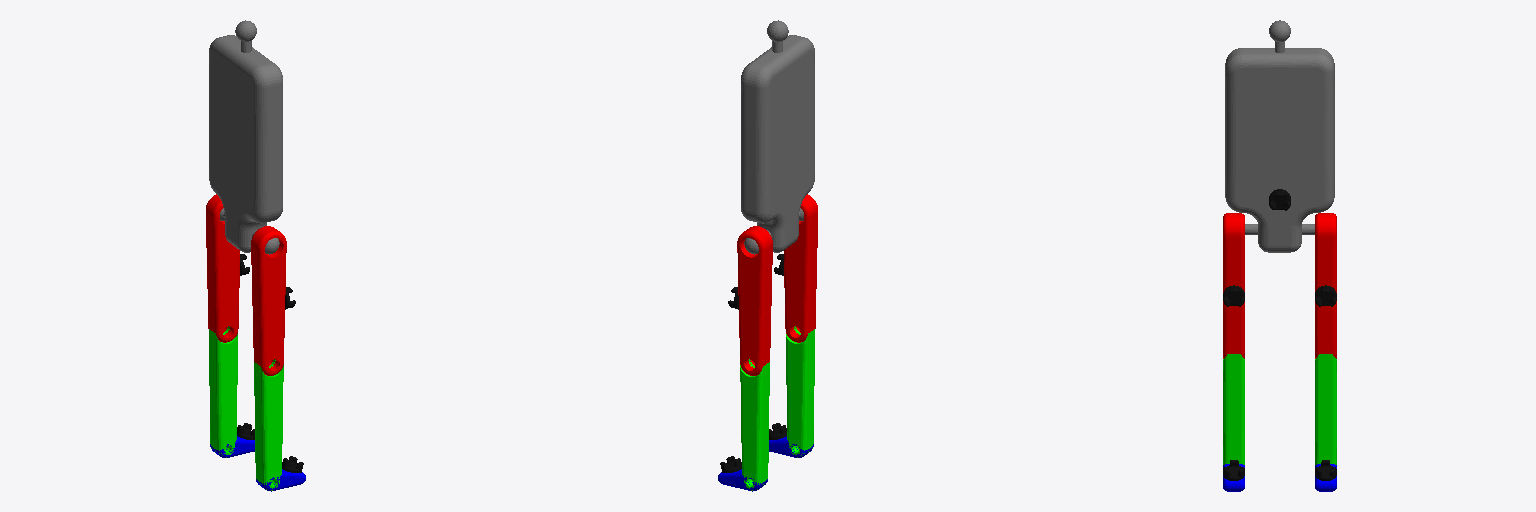
robot.urdf — seto_scararobot:
<?xml version="1.0" ?>
<robot name="seto_scararobot">

    <link name="world"/>

    <link name="base_link"/>

    <link name="head_1_link"/>

    <link name="head_2_link"/>

    <link name="body_link">
        <visual>
            <geometry>
                <mesh filename="package://damitora_description/meshes/body.stl" />
            </geometry>
            <material name="gray">
                <color rgba="0.5 0.5 0.5 1.0" />
            </material>
        </visual>
    </link>

    <link name="upper_leg_R1_link"/>

    <link name="upper_leg_R2_link"/>

    <link name="upper_leg_R3_link">
        <visual>
            <geometry>
                <mesh filename="package://damitora_description/meshes/upper_leg.stl" />
            </geometry>
            <material name="red">
                <color rgba="1.0 0.0 0.0 1.0" />
            </material>
        </visual>
    </link>

    <link name="lower_leg_R_link">
        <visual>
            <geometry>
                <mesh filename="package://damitora_description/meshes/lower_leg2_1.stl" />
            </geometry>
            <material name="green">
                <color rgba="0.0 1.0 0. 1.0" />
            </material>
        </visual>
    </link>

    <link name="Foot_R_link">
        <visual>
            <geometry>
                <mesh filename="package://damitora_description/meshes/lower_leg2_2.stl" />
            </geometry>
            <material name="blue">
                <color rgba="0.0 0.0 1.0 1.0" />
            </material>
        </visual>
    </link>

    <link name="upper_leg_L1_link"/>

    <link name="upper_leg_L2_link"/>

    <link name="upper_leg_L3_link">
        <visual>
            <geometry>
                <mesh filename="package://damitora_description/meshes/upper_leg.stl" />
            </geometry>
            <material name="red">
                <color rgba="1.0 0.0 0.0 1.0" />
            </material>
        </visual>
    </link>

    <link name="lower_leg_L_link">
        <visual>
            <geometry>
                <mesh filename="package://damitora_description/meshes/lower_leg2_1.stl" />
            </geometry>
            <material name="green">
                <color rgba="0.0 1.0 0. 1.0" />
            </material>
        </visual>
    </link>

    <link name="Foot_L_link">
        <visual>
            <geometry>
                <mesh filename="package://damitora_description/meshes/lower_leg2_2.stl" />
            </geometry>
            <material name="blue">
                <color rgba="0.0 0.0 1.0 1.0" />
            </material>
        </visual>
    </link>

    <link name="tracker_C_link">
        <visual>
            <geometry>
                <mesh filename="package://damitora_description/meshes/tracker.stl" />
            </geometry>
            <material name="black">
                <color rgba="0.1 0.1 0.1 1.0" />
            </material>
        </visual>
    </link>

    <link name="tracker_R_link">
        <visual>
            <geometry>
                <mesh filename="package://damitora_description/meshes/tracker.stl" />
            </geometry>
            <material name="black">
                <color rgba="0.1 0.1 0.1 1.0" />
            </material>
        </visual>
    </link>

    <link name="tracker_R_link2">
        <visual>
            <geometry>
                <mesh filename="package://damitora_description/meshes/tracker.stl" />
            </geometry>
            <material name="black">
                <color rgba="0.1 0.1 0.1 1.0" />
            </material>
        </visual>
    </link>

    <link name="tracker_L_link">
        <visual>
            <geometry>
                <mesh filename="package://damitora_description/meshes/tracker.stl" />
            </geometry>
            <material name="black">
                <color rgba="0.1 0.1 0.1 1.0" />
            </material>
        </visual>
    </link>

    <link name="tracker_L_link2">
        <visual>
            <geometry>
                <mesh filename="package://damitora_description/meshes/tracker.stl" />
            </geometry>
            <material name="black">
                <color rgba="0.1 0.1 0.1 1.0" />
            </material>
        </visual>
    </link>
    <!-- ワールド -->

    <joint name="fixed_world" type="fixed">
        <parent link="world"/>
        <child link="base_link"/>
        <origin xyz="0 0 0" rpy="0 0 0" />
    </joint>

    <!-- 首 -->

    <joint name="head_R" type="revolute">
        <parent link="base_link" />
        <child link="head_1_link" />
        <origin xyz="0 0 0" rpy="0 0 0" />
        <axis xyz="1 0 0" />
        <limit effort="1000.0" lower="-3.14159" upper="3.14159" velocity="2.0" />
    </joint>

    <joint name="head_P" type="revolute">
        <parent link="head_1_link" />
        <child link="head_2_link" />
        <origin xyz="0 0 0" rpy="0 0 0" />
        <axis xyz="0 -1 0" />
        <limit effort="1000.0" lower="-3.14159" upper="3.14159" velocity="2.0" />
    </joint>

    <joint name="head_Y" type="revolute">
        <parent link="head_2_link" />
        <child link="body_link" />
        <origin xyz="0 0 0" rpy="0 0 0" />
        <axis xyz="0 0 -1" />
        <limit effort="1000.0" lower="-3.14159" upper="3.14159" velocity="2.0" />
    </joint>

    <!-- 右足 -->

    <joint name="R_upper_leg_Y" type="revolute">
        <parent link="body_link" />
        <child link="upper_leg_R1_link" />
        <origin xyz="0 -0.021 -0.1" rpy="0 0 0" />
        <axis xyz="0 0 -1" />
        <limit effort="1000.0" lower="-3.14159" upper="3.14159" velocity="2.0" />
    </joint>

    <joint name="R_upper_leg_R" type="revolute">
        <parent link="upper_leg_R1_link" />
        <child link="upper_leg_R2_link" />
        <origin xyz="0 0 0" rpy="0 0 0" />
        <axis xyz="1 0 0" />
        <limit effort="1000.0" lower="-3.14159" upper="3.14159" velocity="2.0" />
    </joint>

    <joint name="R_upper_leg_P" type="revolute">
        <parent link="upper_leg_R2_link" />
        <child link="upper_leg_R3_link" />
        <origin xyz="0 0 0" rpy="0 0 0" />
        <axis xyz="0 -1 0" />
        <limit effort="1000.0" lower="-3.14159" upper="3.14159" velocity="2.0" />
    </joint>

    <joint name="R_lower_leg_P" type="revolute">
        <parent link="upper_leg_R3_link" />
        <child link="lower_leg_R_link" />
        <origin xyz="0 0 -0.06" rpy="0 0 0" />
        <axis xyz="0 1 0" />
        <limit effort="1000.0" lower="0" upper="3.14159" velocity="2.0" />
    </joint>

    <joint name="R_foot_P" type="revolute">
        <parent link="lower_leg_R_link" />
        <child link="Foot_R_link" />
        <origin xyz="0 0 -0.06" rpy="0 0 0" />
        <axis xyz="0 1 0" />
        <limit effort="1000.0" lower="0" upper="3.14159" velocity="2.0" />
    </joint>

    <!-- 左足 -->

    <joint name="L_upper_leg_Y" type="revolute">
        <parent link="body_link" />
        <child link="upper_leg_L1_link" />
        <origin xyz="0 0.021 -0.1" rpy="0 0 0" />
        <axis xyz="0 0 -1" />
        <limit effort="1000.0" lower="-3.14159" upper="3.14159" velocity="2.0" />
    </joint>

    <joint name="L_upper_leg_R" type="revolute">
        <parent link="upper_leg_L1_link" />
        <child link="upper_leg_L2_link" />
        <origin xyz="0 0 0" rpy="0 0 0" />
        <axis xyz="1 0 0" />
        <limit effort="1000.0" lower="-3.14159" upper="3.14159" velocity="2.0" />
    </joint>

    <joint name="L_upper_leg_P" type="revolute">
        <parent link="upper_leg_L2_link" />
        <child link="upper_leg_L3_link" />
        <origin xyz="0 0 0" rpy="0 0 0" />
        <axis xyz="0 1 0" />
        <limit effort="1000.0" lower="-3.14159" upper="3.14159" velocity="2.0" />
    </joint>

    <joint name="L_lower_leg_P" type="revolute">
        <parent link="upper_leg_L3_link" />
        <child link="lower_leg_L_link" />
        <origin xyz="0 0 -0.06" rpy="0 0 0" />
        <axis xyz="0 -1 0" />
        <limit effort="1000.0" lower="-3.14159" upper="0" velocity="2.0" />
    </joint>

    <joint name="L_foot_P" type="revolute">
        <parent link="lower_leg_L_link" />
        <child link="Foot_L_link" />
        <origin xyz="0 0 -0.06" rpy="0 0 0" />
        <axis xyz="0 1 0" />
        <limit effort="1000.0" lower="0" upper="3.14159" velocity="2.0" />
    </joint>

    <!-- トラッカー -->

    <joint name="fixed_tracker_C" type="fixed">
        <parent link="body_link"/>
        <child link="tracker_C_link"/>
        <origin xyz="0.01 0 -0.08" rpy="0 0 0" />
    </joint>

    <joint name="fixed_tracker_R" type="fixed">
        <parent link="Foot_R_link"/>
        <child link="tracker_R_link"/>
        <origin xyz="0.012 0 0.002" rpy="0 -1.3 0" />
    </joint>

    <joint name="fixed_tracker_R2" type="fixed">
        <parent link="upper_leg_R3_link"/>
        <child link="tracker_R_link2"/>
        <origin xyz="0.007 0 -0.03" rpy="0 0 0" />
    </joint>

    <joint name="fixed_tracker_L" type="fixed">
        <parent link="Foot_L_link"/>
        <child link="tracker_L_link"/>
        <origin xyz="0.012 0 0.002" rpy="0 -1.3 0" />
    </joint>

    <joint name="fixed_tracker_L2" type="fixed">
        <parent link="upper_leg_L3_link"/>
        <child link="tracker_L_link2"/>
        <origin xyz="0.007 0 -0.03" rpy="0 0 0" />
    </joint>

</robot>

--- Render facts (derived) ---
3 views of the same robot in one strip: view 1: azimuth 30°, elevation 25°; view 2: azimuth 150°, elevation 25°; view 3: azimuth 270°, elevation 25° (orthographic).
Robot: seto_scararobot — 20 links, 19 joints (13 revolute, 6 fixed); root link world; default pose: all joints at 0.
Visible links, largest first — view 1: body_link, upper_leg_R3_link, upper_leg_L3_link, lower_leg_L_link, lower_leg_R_link; view 2: body_link, upper_leg_L3_link, upper_leg_R3_link, lower_leg_L_link, lower_leg_R_link; view 3: body_link, upper_leg_R3_link, upper_leg_L3_link, lower_leg_L_link, lower_leg_R_link.
Link boxes in pixels (x1,y1,x2,y2): body_link: [209, 20, 282, 254]; upper_leg_R3_link: [251, 226, 286, 375]; upper_leg_L3_link: [206, 194, 239, 342]; lower_leg_L_link: [209, 326, 237, 457]; lower_leg_R_link: [254, 359, 283, 490]; body_link: [741, 20, 814, 254]; upper_leg_L3_link: [737, 226, 772, 375]; upper_leg_R3_link: [784, 194, 817, 342]; lower_leg_L_link: [740, 359, 769, 490]; lower_leg_R_link: [786, 326, 814, 457]; body_link: [1225, 20, 1334, 252]; upper_leg_R3_link: [1223, 213, 1244, 358]; upper_leg_L3_link: [1315, 213, 1336, 358]; lower_leg_L_link: [1315, 354, 1336, 464]; lower_leg_R_link: [1223, 354, 1244, 464].
Size in the robot's own frame: 0.0255 by 0.052 by 0.2299 metres.
Meshes: 5 distinct files referenced, 12 mesh visuals loaded (5 binary STL).
